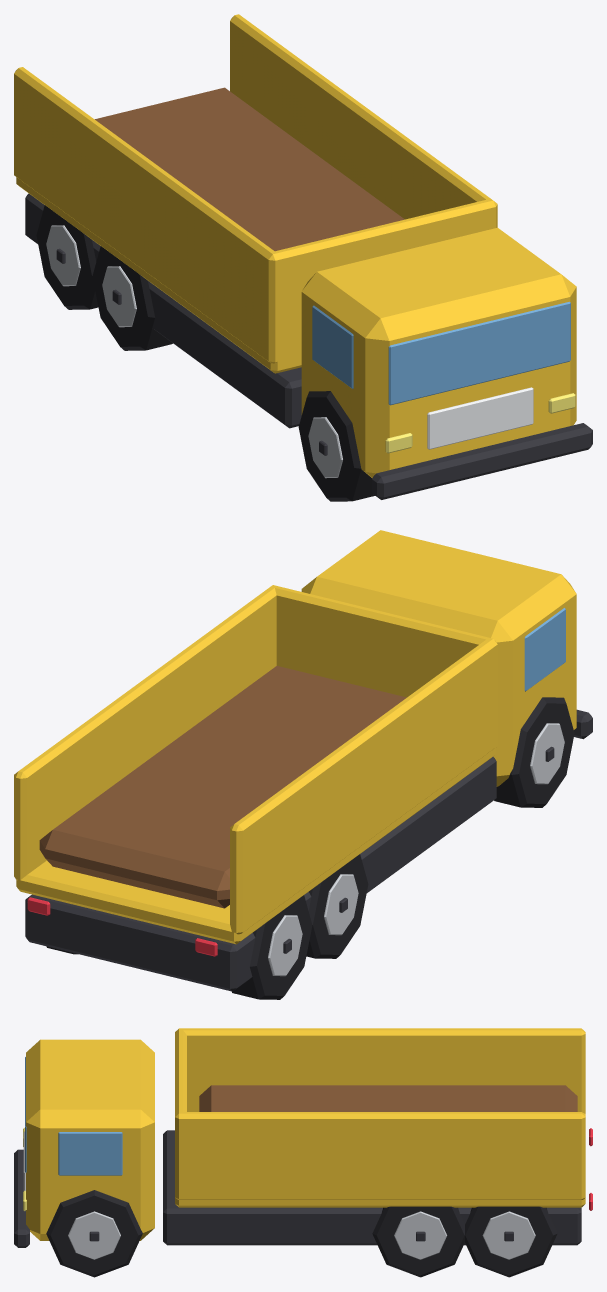
File: DumpTruck.fbx
The picture shows the model from 3 angles, top to bottom: view 1: azimuth 30°, elevation 25°; view 2: azimuth 150°, elevation 25°; view 3: azimuth 270°, elevation 25°; orthographic projection. The views are drawn at different scales.
Visible parts, largest first — view 1: DumpTruck_Bed, DumpTruck, DumpTruck_WheelFR, DumpTruck_WheelMR, DumpTruck_WheelBR; view 2: DumpTruck_Bed, DumpTruck, DumpTruck_WheelFR, DumpTruck_WheelBR, DumpTruck_WheelMR; view 3: DumpTruck_Bed, DumpTruck, DumpTruck_WheelFL, DumpTruck_WheelML, DumpTruck_WheelBL.
Boxes of the visible parts, x1=… form: DumpTruck_Bed: x1=14, y1=14, x2=497, y2=373; DumpTruck: x1=25, y1=193, x2=592, y2=499; DumpTruck_WheelFR: x1=298, y1=391, x2=374, y2=501; DumpTruck_WheelMR: x1=92, y1=246, x2=172, y2=350; DumpTruck_WheelBR: x1=36, y1=205, x2=98, y2=309; DumpTruck_Bed: x1=14, y1=585, x2=497, y2=944; DumpTruck: x1=25, y1=530, x2=592, y2=991; DumpTruck_WheelFR: x1=494, y1=697, x2=574, y2=807; DumpTruck_WheelBR: x1=232, y1=895, x2=312, y2=999; DumpTruck_WheelMR: x1=306, y1=854, x2=368, y2=958; DumpTruck_Bed: x1=175, y1=1028, x2=585, y2=1207; DumpTruck: x1=14, y1=1039, x2=592, y2=1247; DumpTruck_WheelFL: x1=46, y1=1190, x2=142, y2=1277; DumpTruck_WheelML: x1=372, y1=1206, x2=464, y2=1277; DumpTruck_WheelBL: x1=465, y1=1206, x2=557, y2=1277.
Bounding box in the file's own units: 5.22 × 4.54 × 14.38.
Materials: 1 (1 with a texture image).
